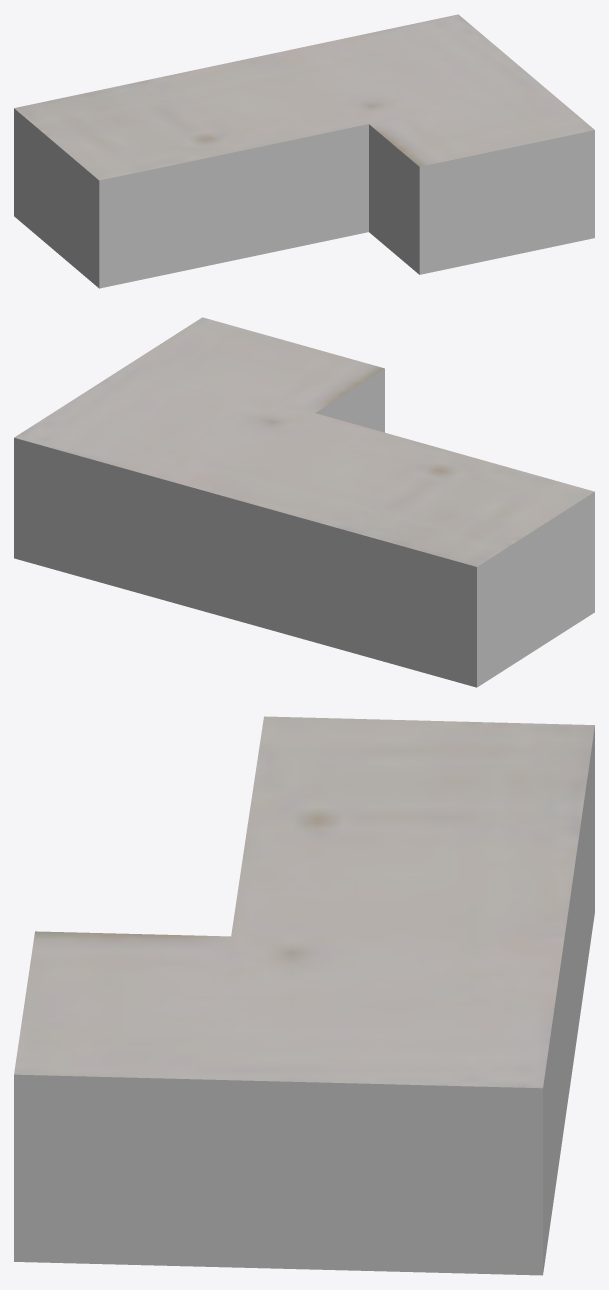
File: DEBW_0010007Txd4.gltf
The picture shows the model from 3 angles, top to bottom: view 1: azimuth 30°, elevation 25°; view 2: azimuth 150°, elevation 25°; view 3: azimuth 270°, elevation 25°; orthographic projection. The views are drawn at different scales.
Visible parts, largest first — view 1: Z_UP; view 2: Z_UP; view 3: Z_UP.
Boxes of the visible parts, x1,y1,x2,y2 form: Z_UP: (14,14,594,288); Z_UP: (14,317,594,687); Z_UP: (14,716,594,1275).
Bounding box in the file's own units: 13.37 × 3.14 × 8.83.
Materials: 2 (1 with a texture image).
